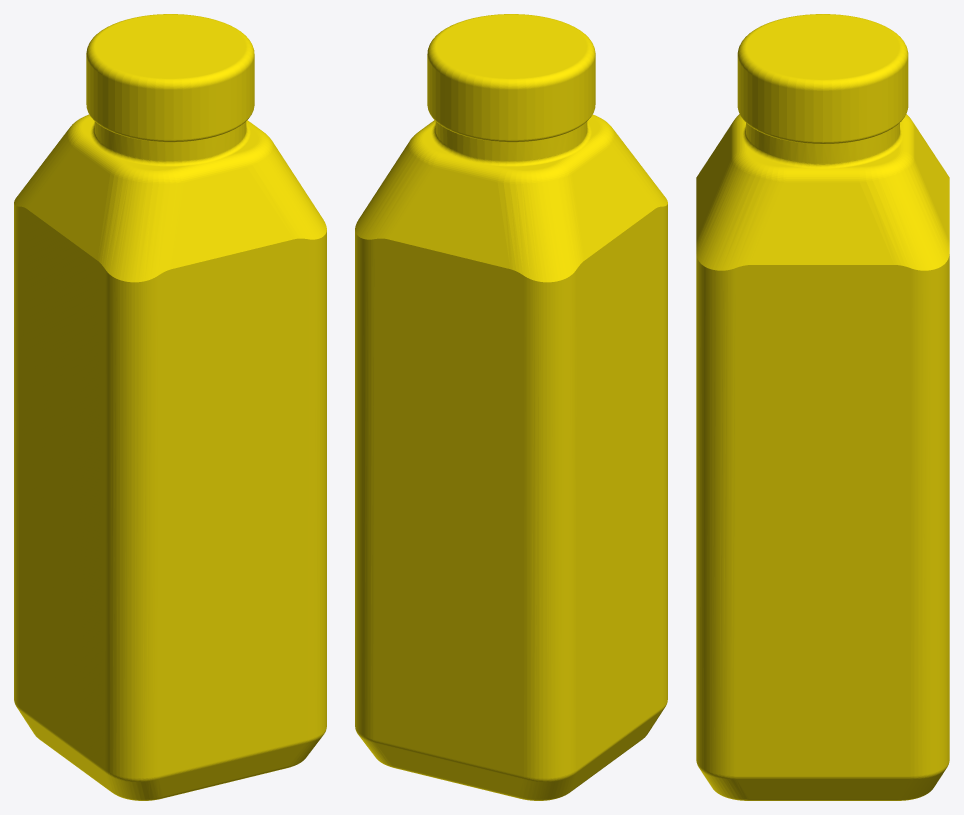
Rendered from bottle.dae.
3 views of the same model, side by side, from view 1: azimuth 30°, elevation 25°; view 2: azimuth 150°, elevation 25°; view 3: azimuth 270°, elevation 25° (orthographic).
Parts seen in each view (by area): view 1: bottle; view 2: bottle; view 3: bottle.
Boxes of the visible parts, x1,y1,x2,y2 form: bottle: (14,14,326,800); bottle: (355,14,667,800); bottle: (696,14,949,800).
Size of the model in its own units: 0.0584 by 0.0584 by 0.1803.
